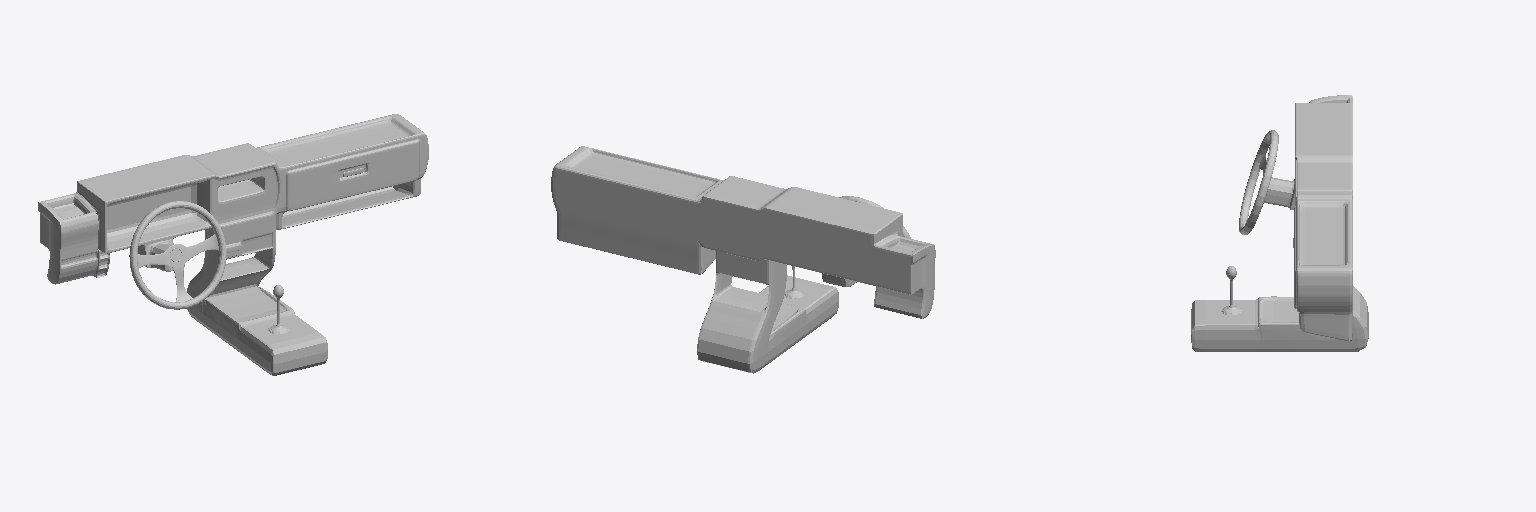
Rendered from smooth_panel.obj.
3 views of the same model, side by side, from view 1: azimuth 30°, elevation 25°; view 2: azimuth 150°, elevation 25°; view 3: azimuth 270°, elevation 25° (orthographic).
Visible parts, largest first — view 1: Cubo, Círculo; view 2: Cubo; view 3: Cubo, Círculo.
Boxes of the visible parts, <box> form: Cubo: <box>38,114,428,375</box>; Círculo: <box>129,201,226,309</box>; Cubo: <box>551,146,935,373</box>; Cubo: <box>1191,95,1368,351</box>; Círculo: <box>1239,130,1278,234</box>.
Bounding box in the file's own units: 6.73 × 2.95 × 2.84.